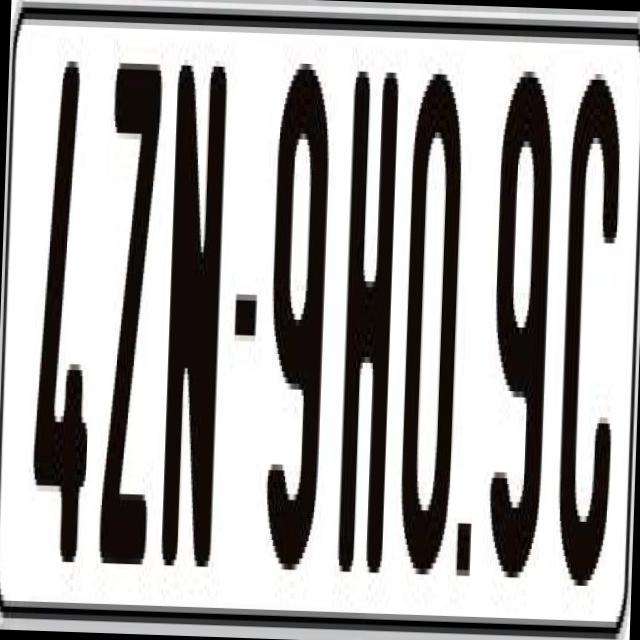0: (395, 73, 464, 610)
4: (30, 48, 104, 562)
9: (486, 52, 562, 584), (262, 44, 334, 564)
C: (555, 78, 624, 598)
H: (336, 64, 400, 566)
N: (160, 59, 228, 572)
Z: (94, 62, 164, 600)
